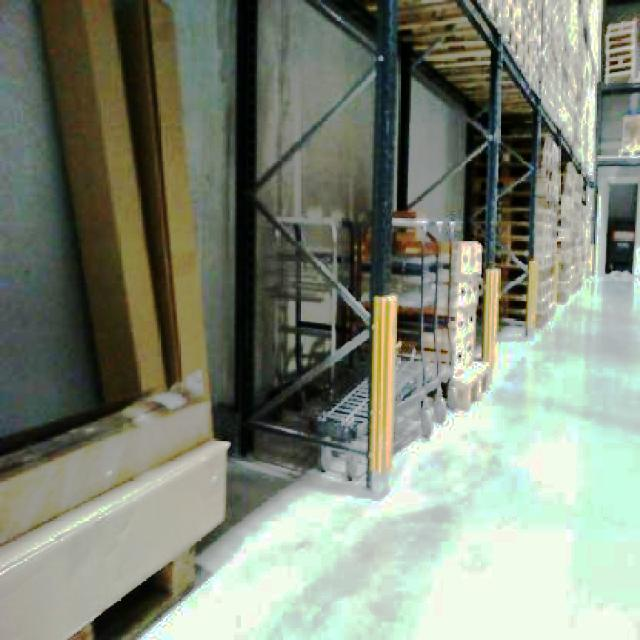ground: (98, 266, 638, 638)
pallet: (240, 0, 600, 492), (243, 208, 498, 491), (0, 368, 229, 638), (346, 212, 488, 406), (465, 118, 589, 334), (602, 17, 638, 83), (617, 111, 638, 155)
